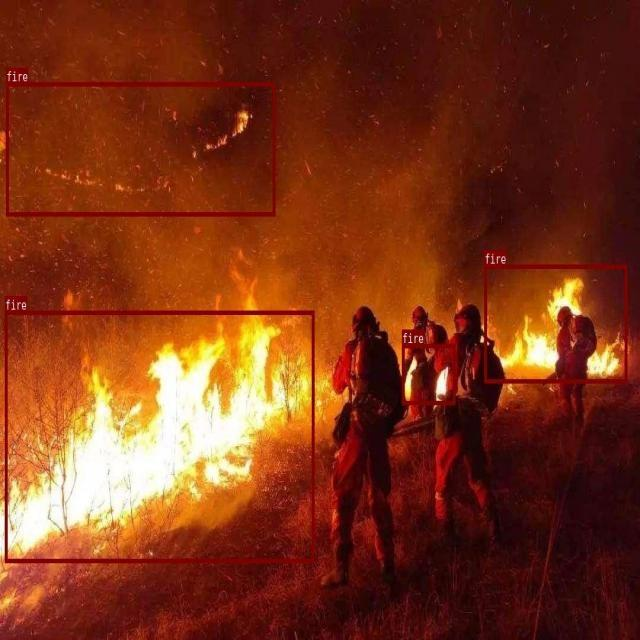fire: (4, 310, 314, 562), (6, 82, 275, 216), (484, 264, 627, 382), (401, 344, 455, 404)
